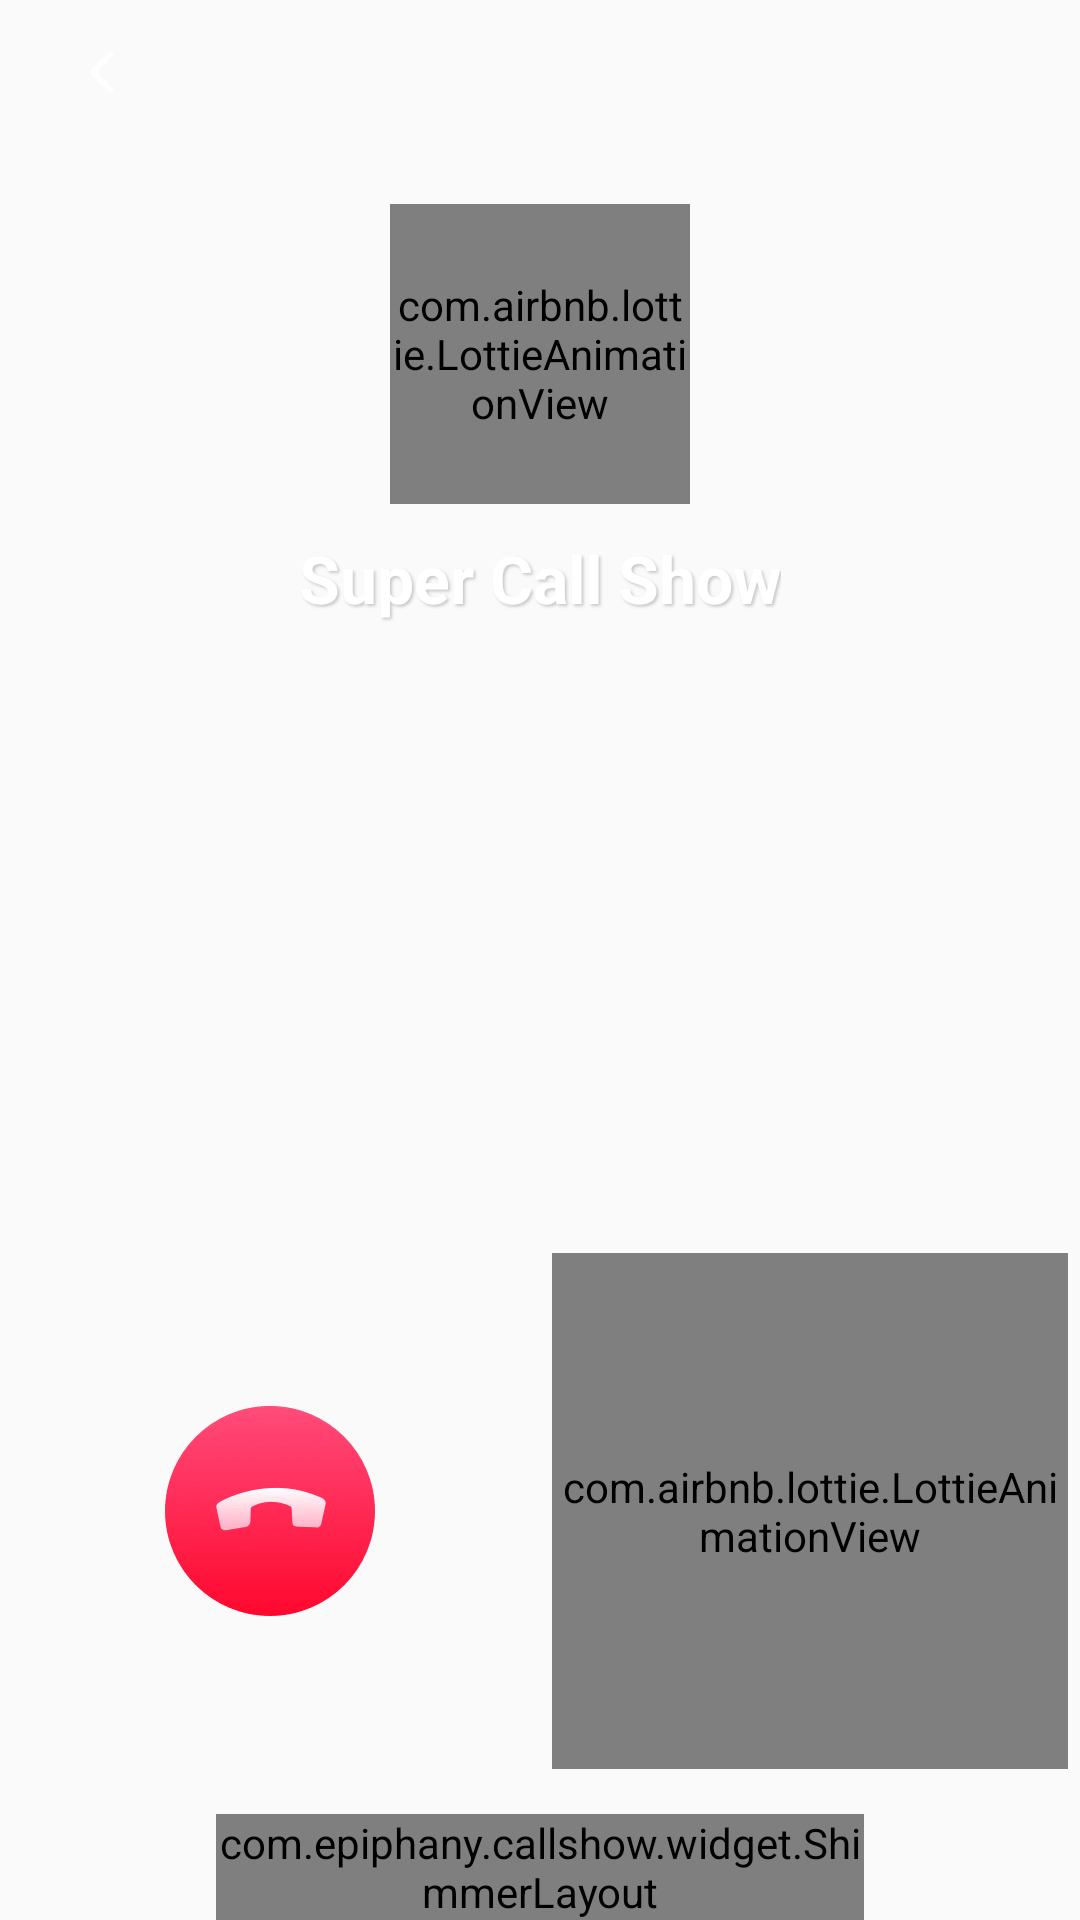

Icons on this 1080*1920 Android screen, each with its box as (x1, y1, x2, y2):
bth close: (165, 1406, 375, 1616)
